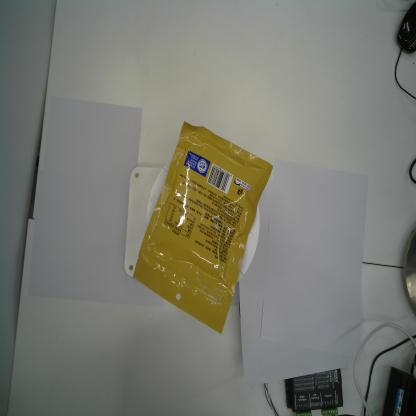Dried Fruit: (131, 120, 274, 335)
